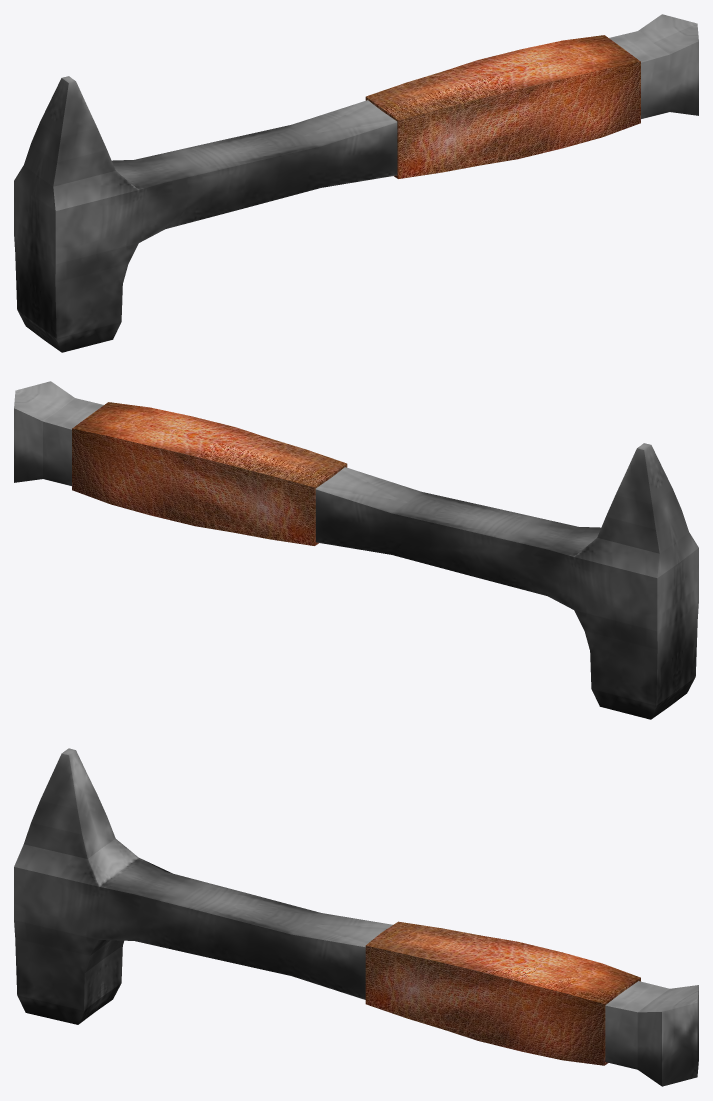
File: Martillo.fbx
3 renders of one model, top to bottom at view 1: azimuth 30°, elevation 25°; view 2: azimuth 150°, elevation 25°; view 3: azimuth 330°, elevation 25°, orthographic.
Parts seen in each view (by area): view 1: Cube, Cube.001; view 2: Cube, Cube.001; view 3: Cube, Cube.001.
Boxes of the visible parts, x1,y1,x2,y2 form: Cube: (14,14,698,352); Cube.001: (365,35,640,178); Cube: (14,381,698,719); Cube.001: (72,402,347,545); Cube: (14,748,698,1086); Cube.001: (365,921,640,1065).
Size of the model in its own units: 481 by 176 by 52.25.
